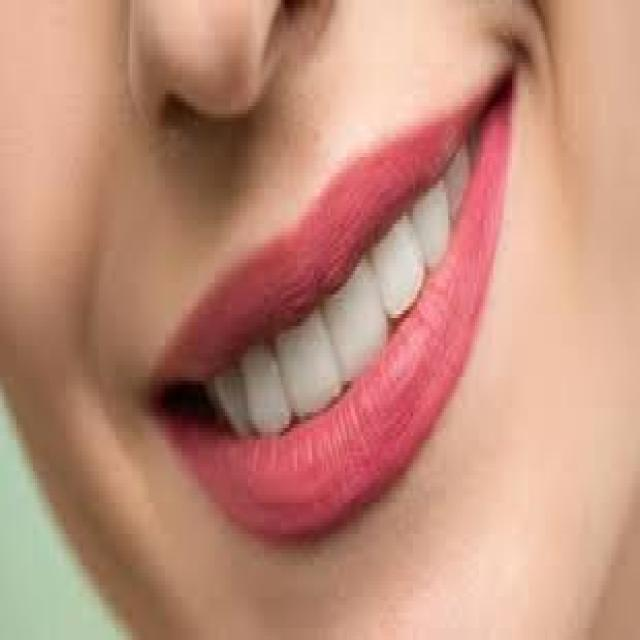tooth: (239, 341, 287, 432), (278, 330, 338, 400), (328, 286, 378, 350), (382, 224, 411, 310), (419, 193, 446, 259), (217, 373, 246, 424), (450, 153, 467, 208), (202, 377, 215, 396)
